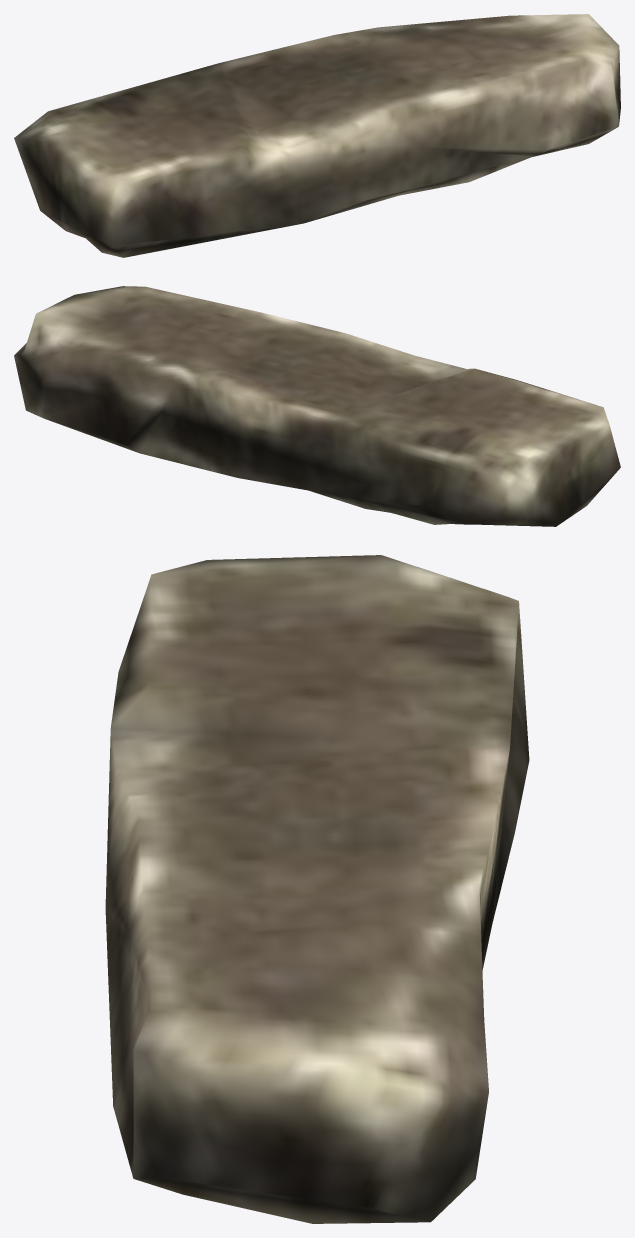
The model's file is ShiTou_4.fbx.
3 views of the same model, one above another, from view 1: azimuth 30°, elevation 25°; view 2: azimuth 150°, elevation 25°; view 3: azimuth 270°, elevation 25° (orthographic). The views are drawn at different scales.
Visible parts, largest first — view 1: SM_RP_Vol_01_19; view 2: SM_RP_Vol_01_19; view 3: SM_RP_Vol_01_19.
Boxes of the visible parts, bbox=[...] form: SM_RP_Vol_01_19: bbox=[14, 14, 620, 257]; SM_RP_Vol_01_19: bbox=[14, 286, 620, 526]; SM_RP_Vol_01_19: bbox=[105, 555, 529, 1223].
Size of the model in its own units: 34.37 by 5.81 by 11.59.
